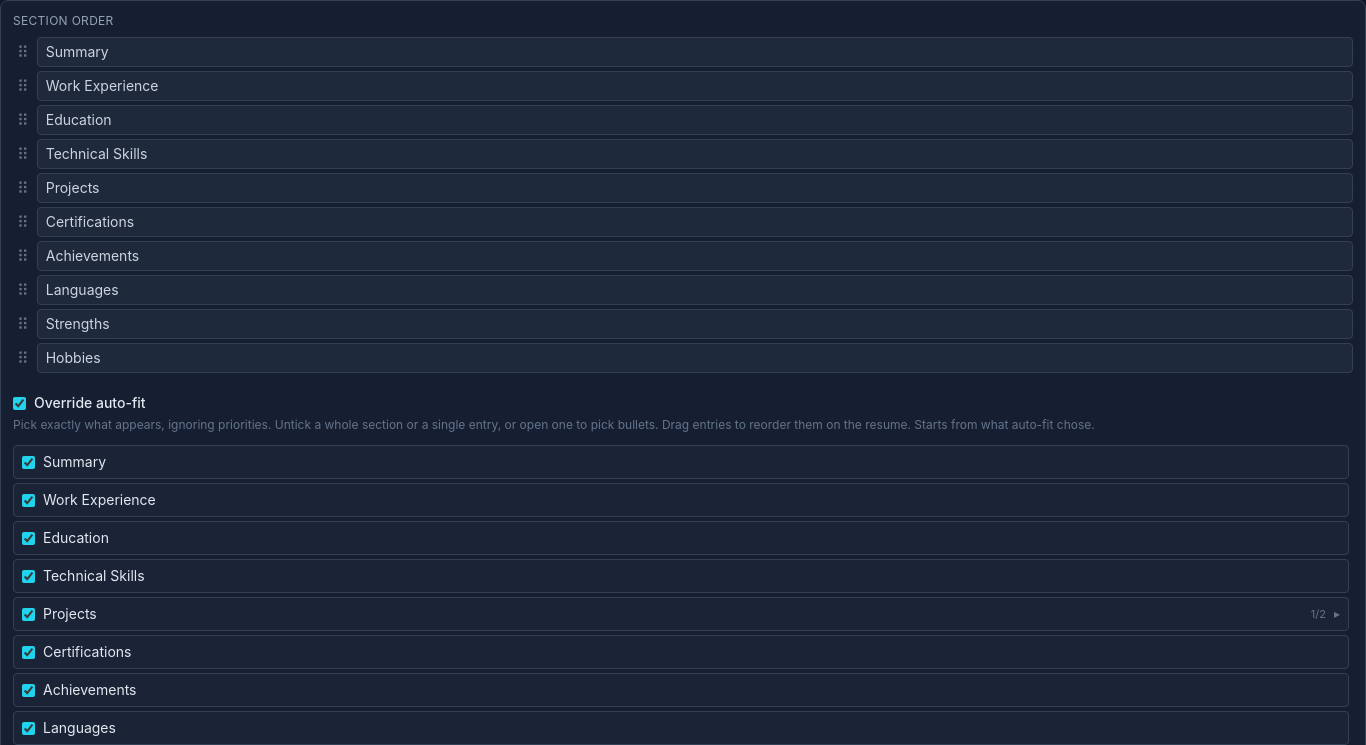
AdvancedPanel manual override › reflects already-hidden ids as unchecked and counts what will render
The width and height of the screenshot is (1366, 745).
Click the button "Projects 1/2 ▸": (70, 614) 43,604 -> 1340,624
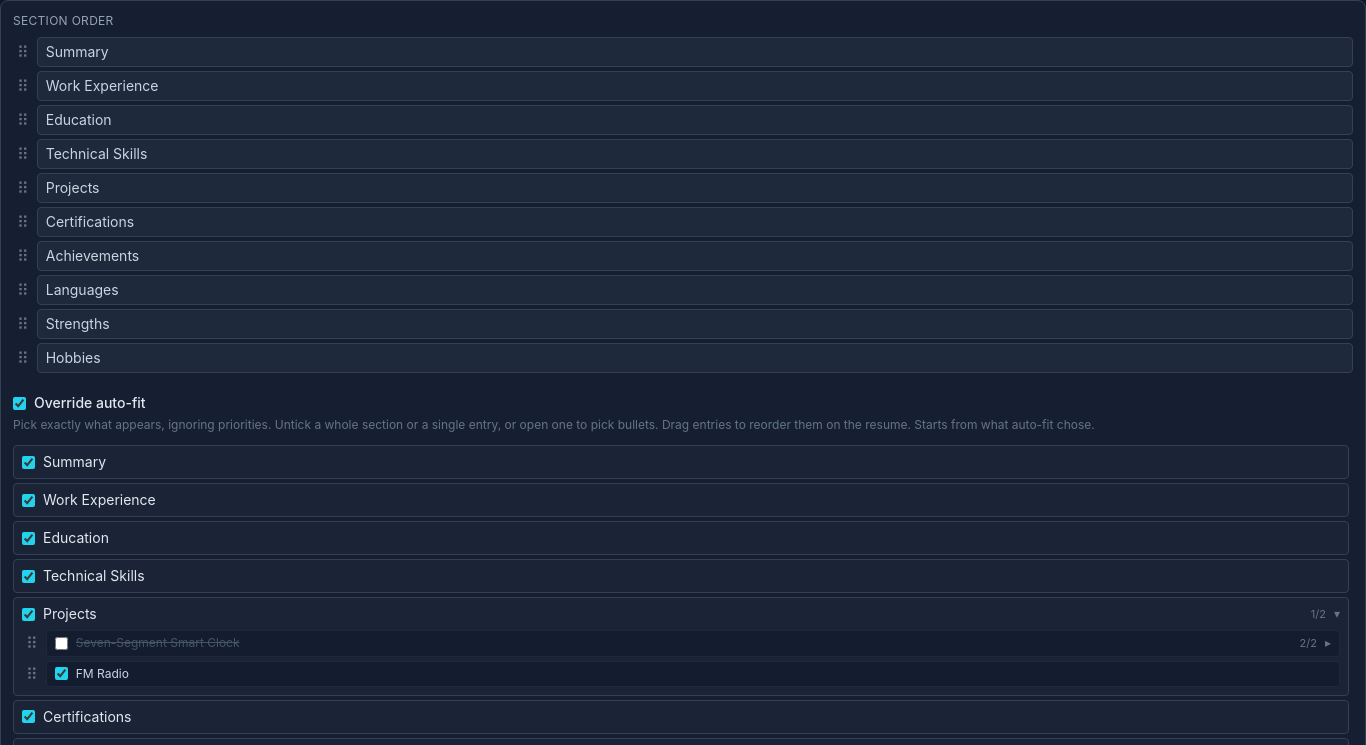
Expected: the text "1/2" is shown, 1311,606 -> 1326,622
Now the checkbox named "Include Seven-Segment Smart Clock" is not checked, box 55,637 -> 68,650
